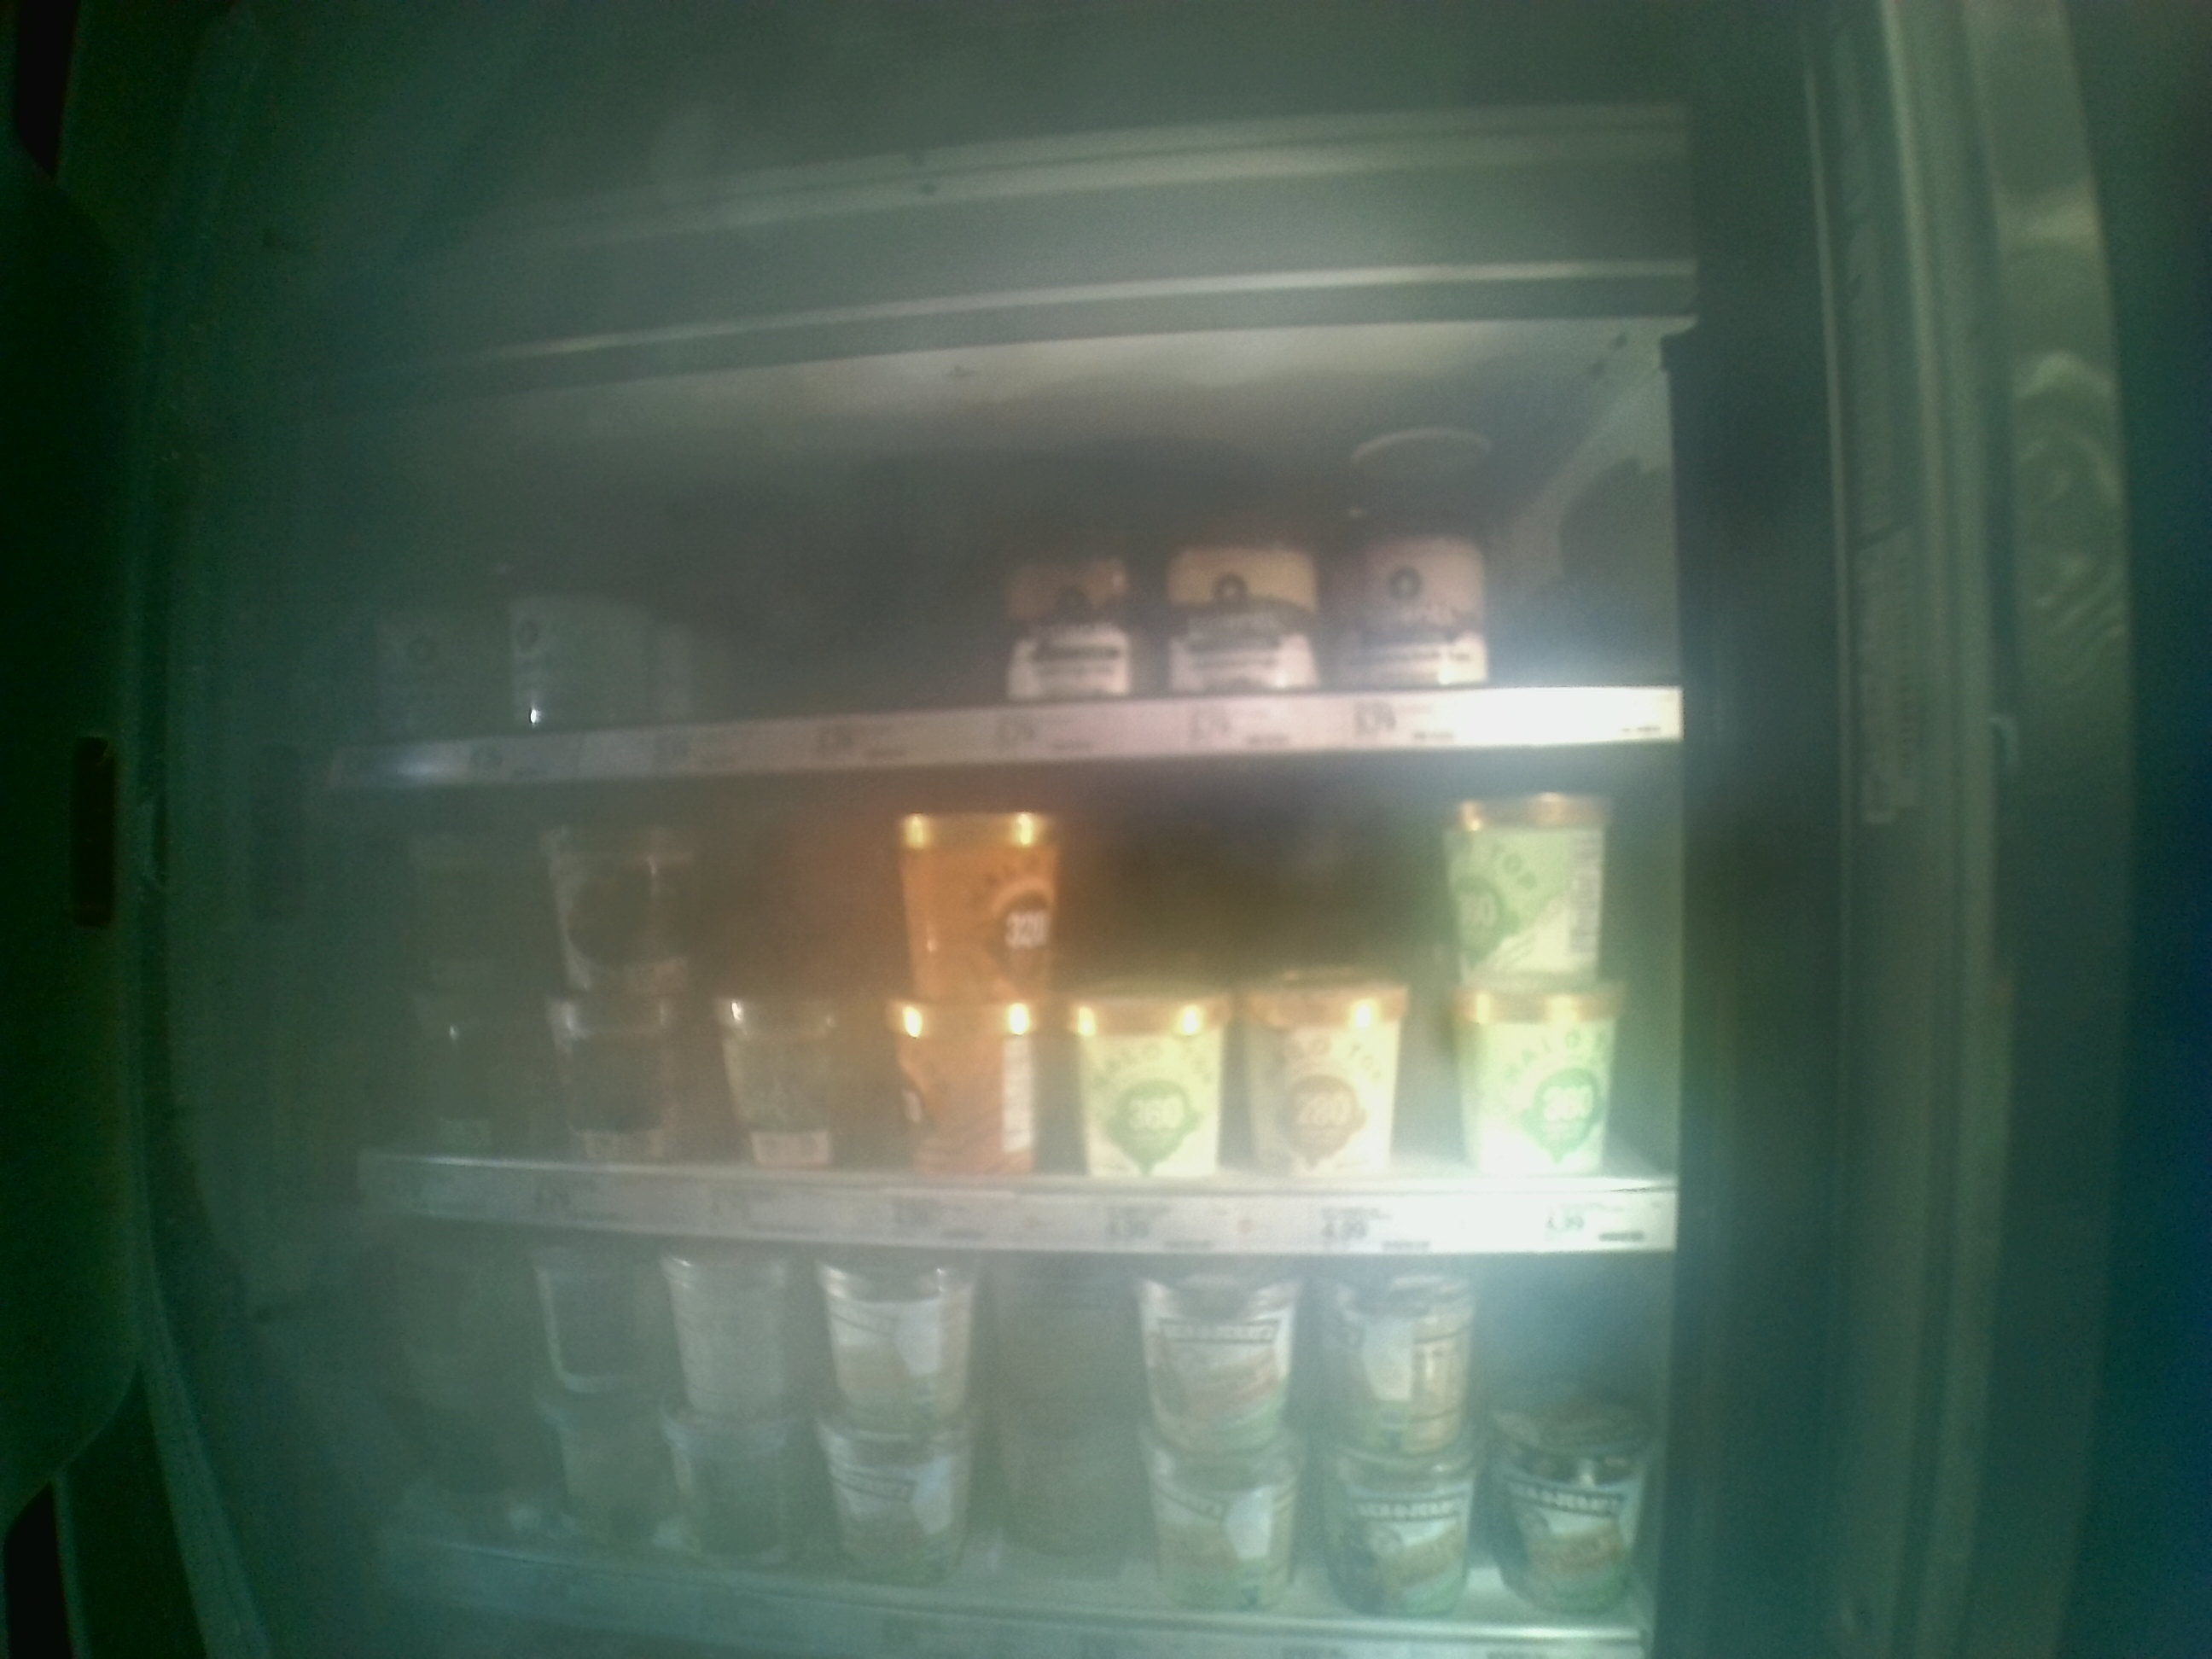shelf: (331, 734, 1681, 1255), (336, 415, 1712, 782)
